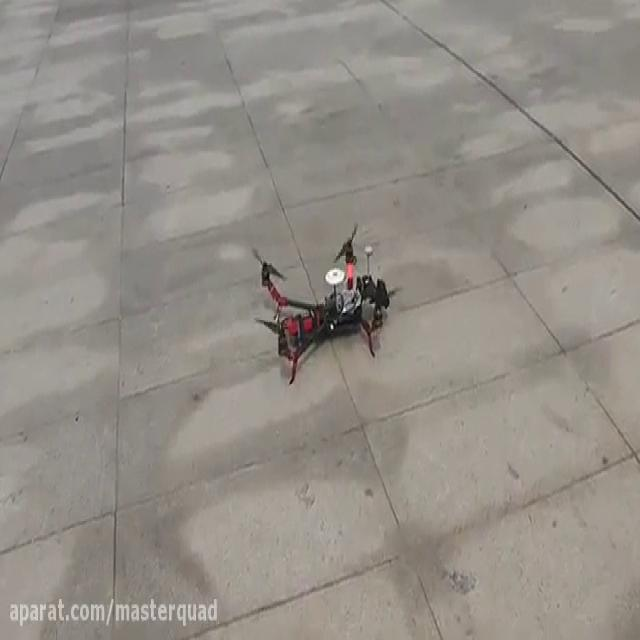drone: (246, 217, 406, 389)
